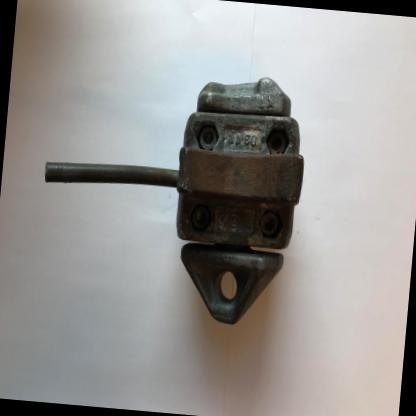Twistlock: (26, 54, 314, 334)
